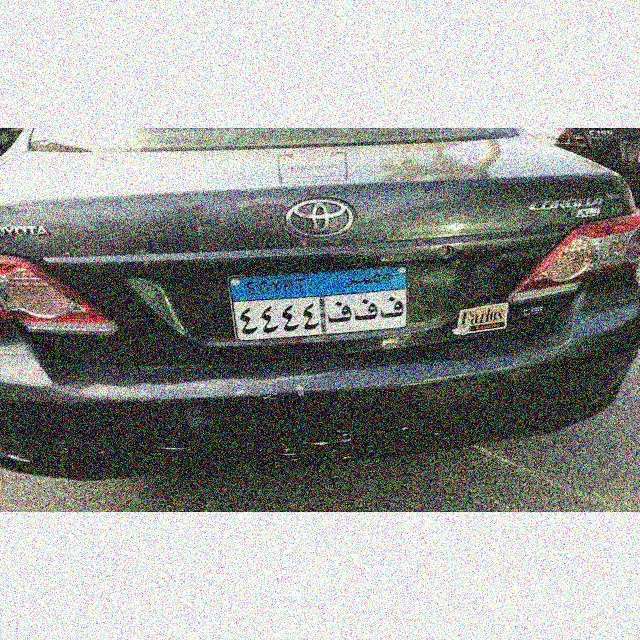License Plate: (218, 263, 417, 344)
